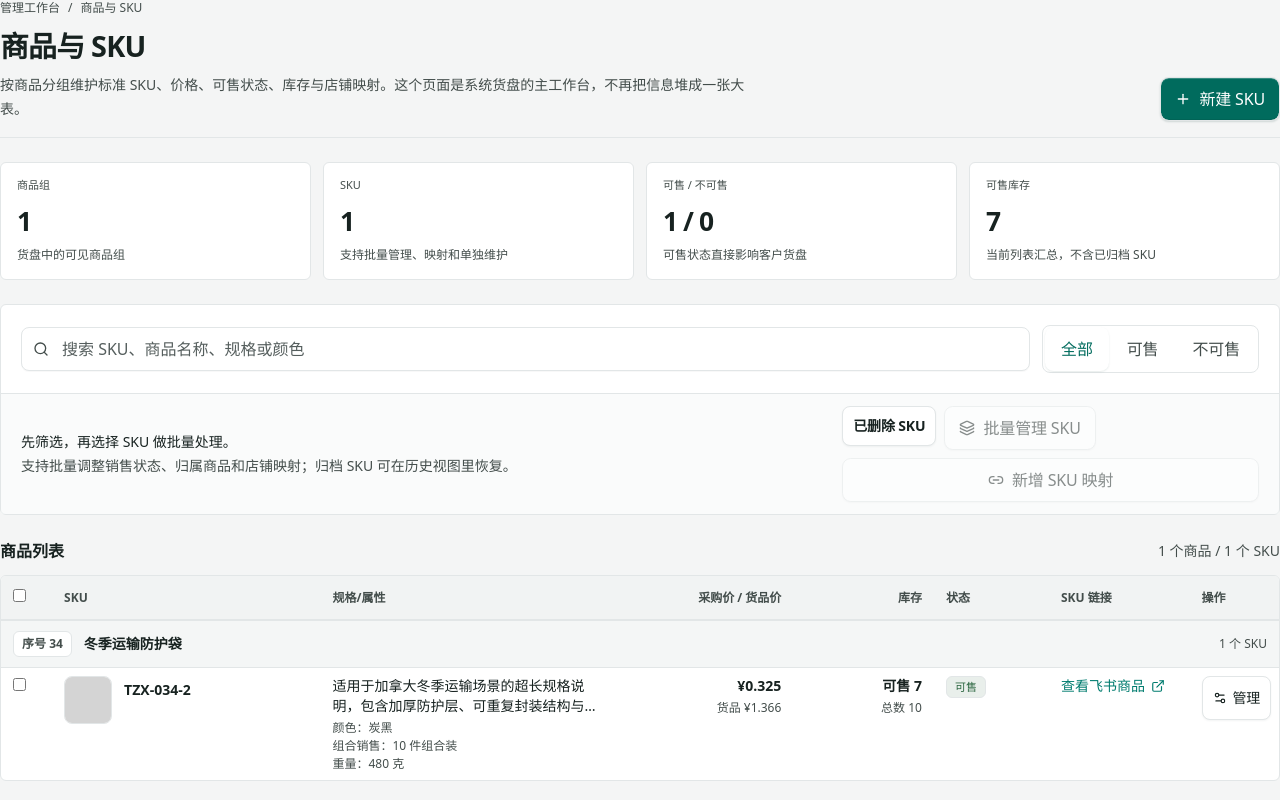
Test case: catalog workspaces › exposes per-SKU management and enables batch management after selection
The image size is (1280, 800).
expect the button "批量管理 SKU" is disabled: met, box [944,406,1096,450]
Click the checkbox named "选择 TZX-034-2": [20, 685] box [13,678,26,691]
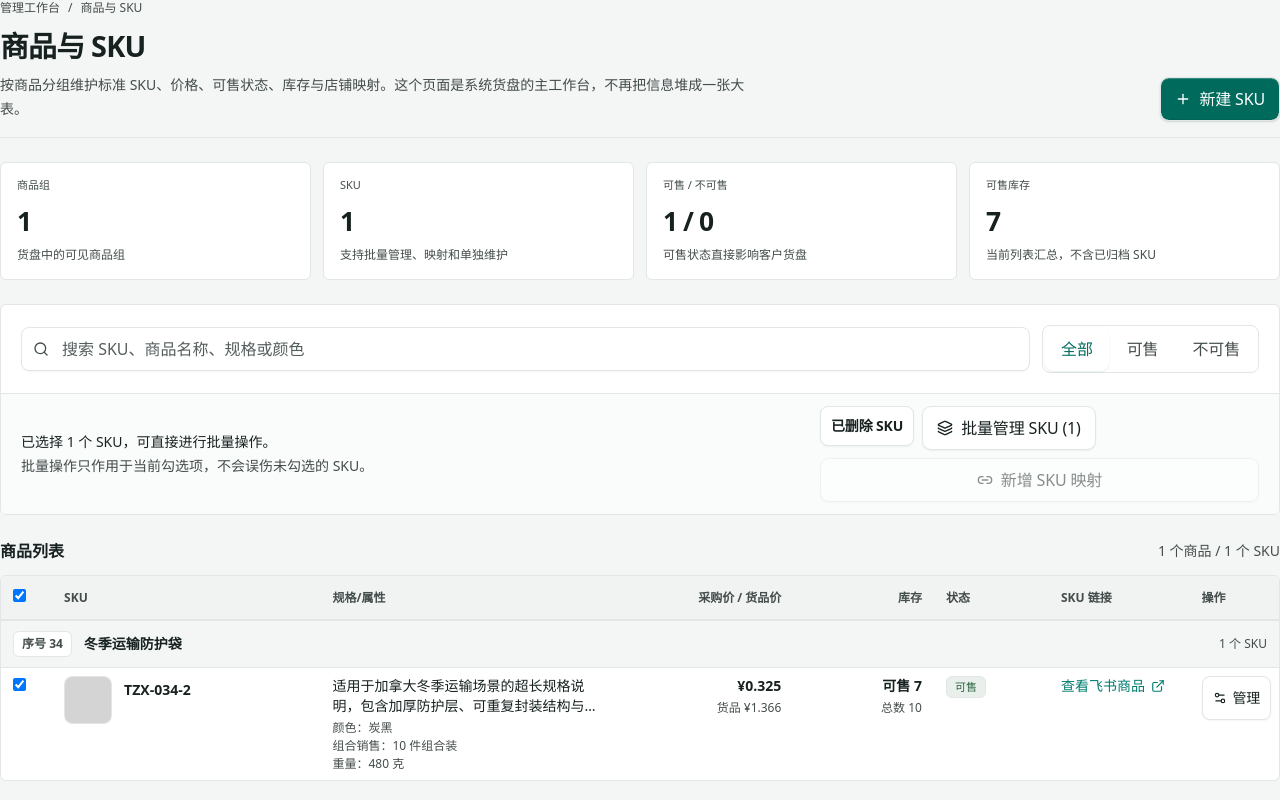
expect the button "批量管理 SKU (1)" is enabled: met, box [922,406,1096,450]
Click the button "管理": [1236, 698] box [1202,676,1271,720]
(page scrolled)
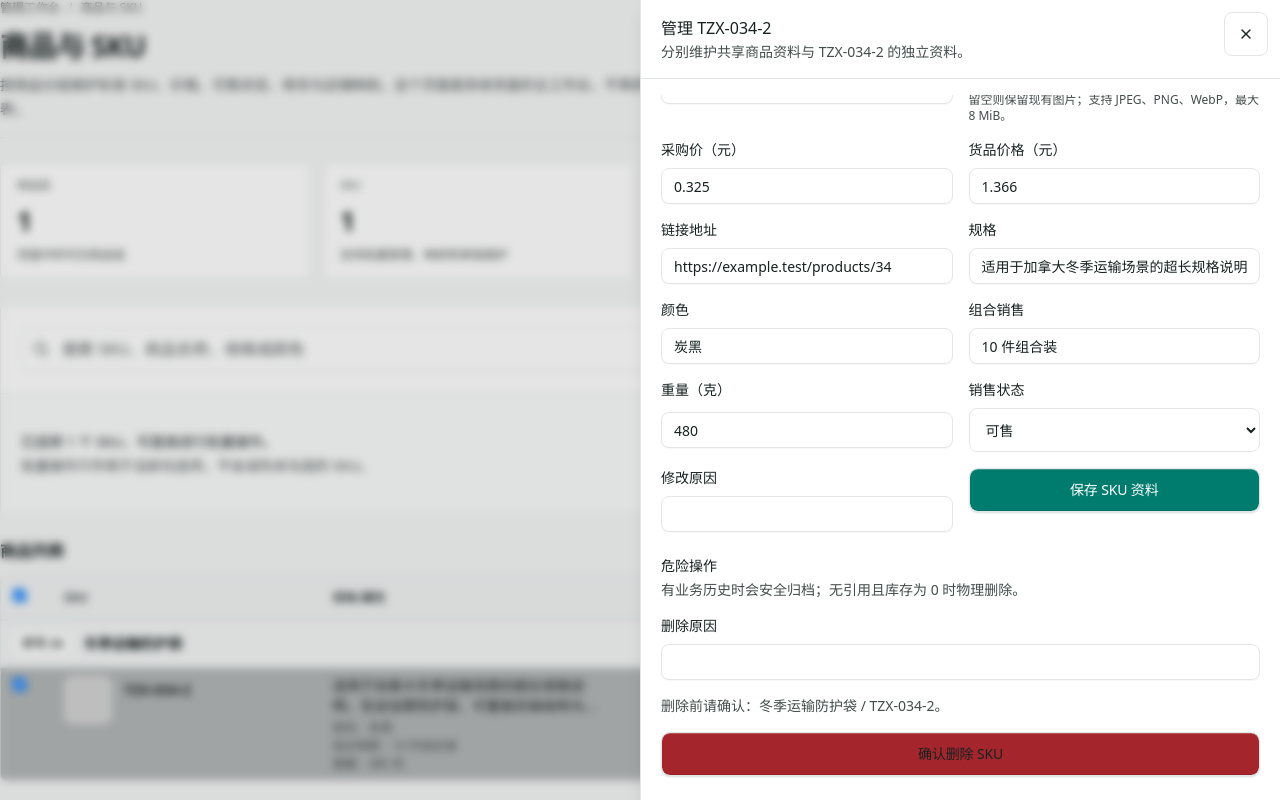
expect the field labelled "货品价格（元）" holds "1.366": met, box [968,168,1260,204]
expect the button "确认删除 SKU" is shown: met, box [661,732,1260,776]
